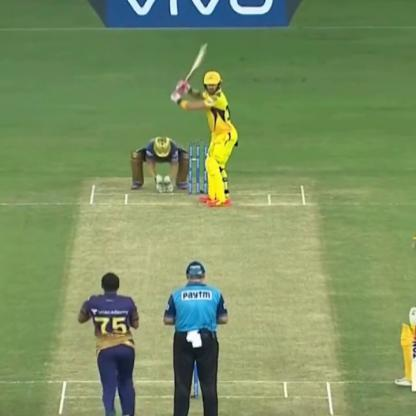bat: (173, 34, 208, 102)
pitch: (38, 178, 357, 415)
